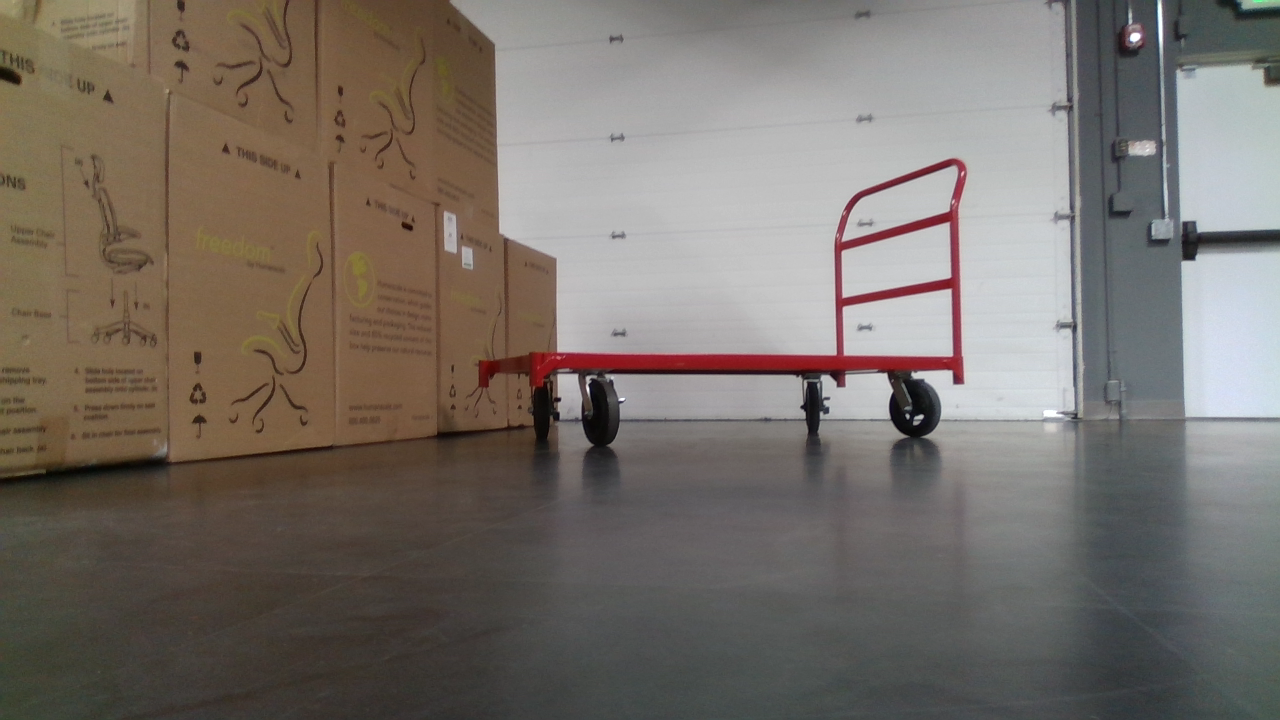Dolly: (472, 154, 974, 454)
Wheel: (889, 375, 942, 437), (583, 373, 624, 450), (524, 377, 567, 450), (798, 381, 830, 437)
